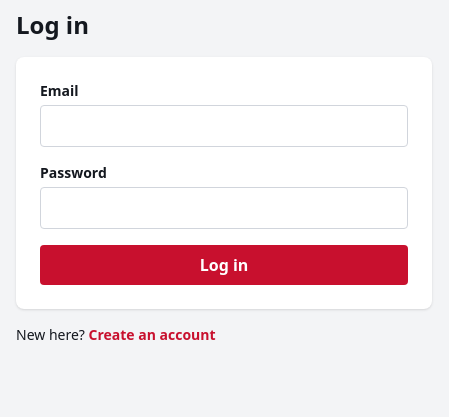
Test case: forms › login shows an error for wrong credentials
The image size is (449, 417).
Type "a@b.co" into the field labelled "Email" at [224, 126], box [40, 105, 408, 147]
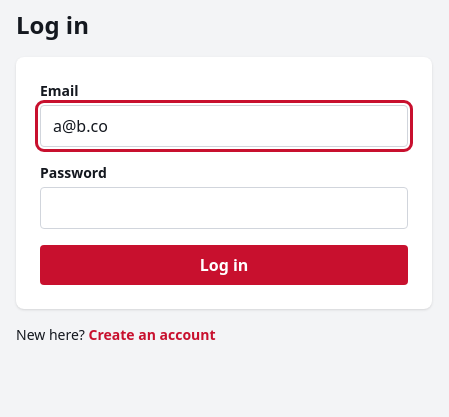
Type "wrongwrong" into the password field labelled "Password" at [224, 208], box [40, 187, 408, 229]
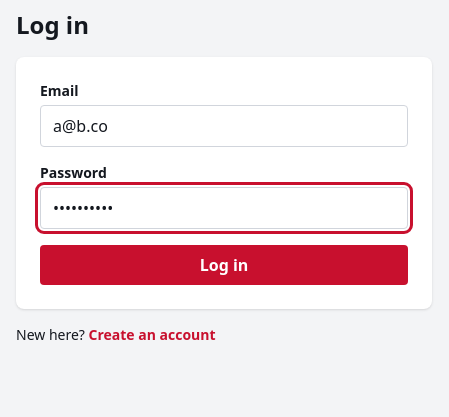
Click the button "Log in" at [224, 265], box [40, 245, 408, 285]
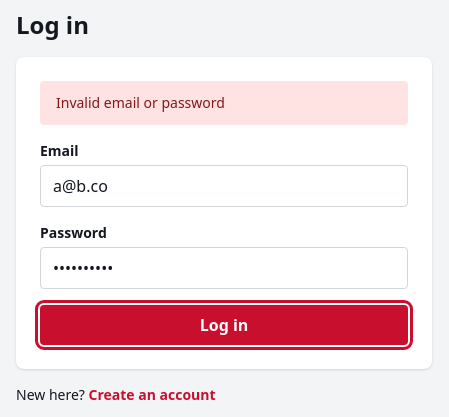
Check: the message reads "Invalid email or password", box [56, 93, 225, 112]
